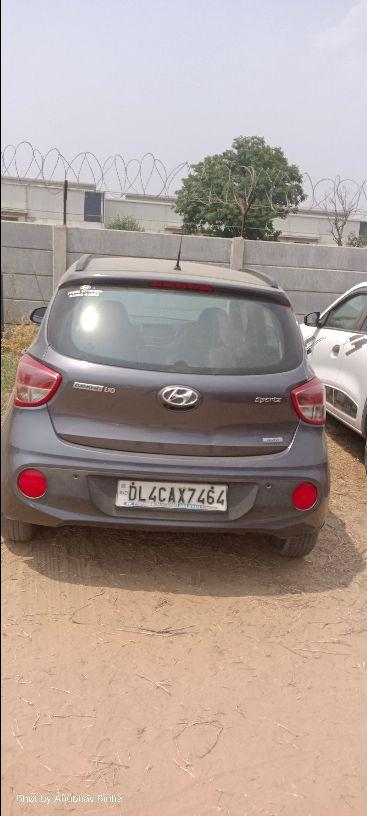license_plate: (114, 478, 228, 513)
